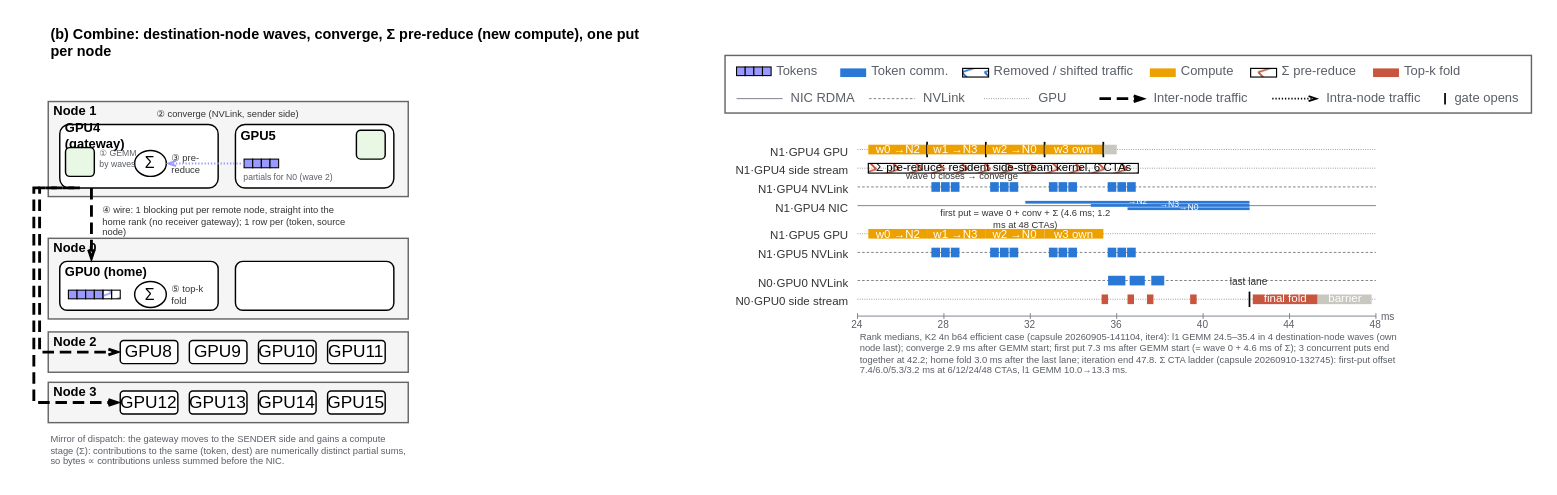
The diagram is 1557 pixels wide and 495 high, and some of its shapes have lost their labels. The shapes that lost their labels are listed below. From the top down, each one's centre as x and y in pixels, then its label:
At pixel 79 161: "E1".
At pixel 370 144: "E3".
At pixel 314 285: "GPU1".
